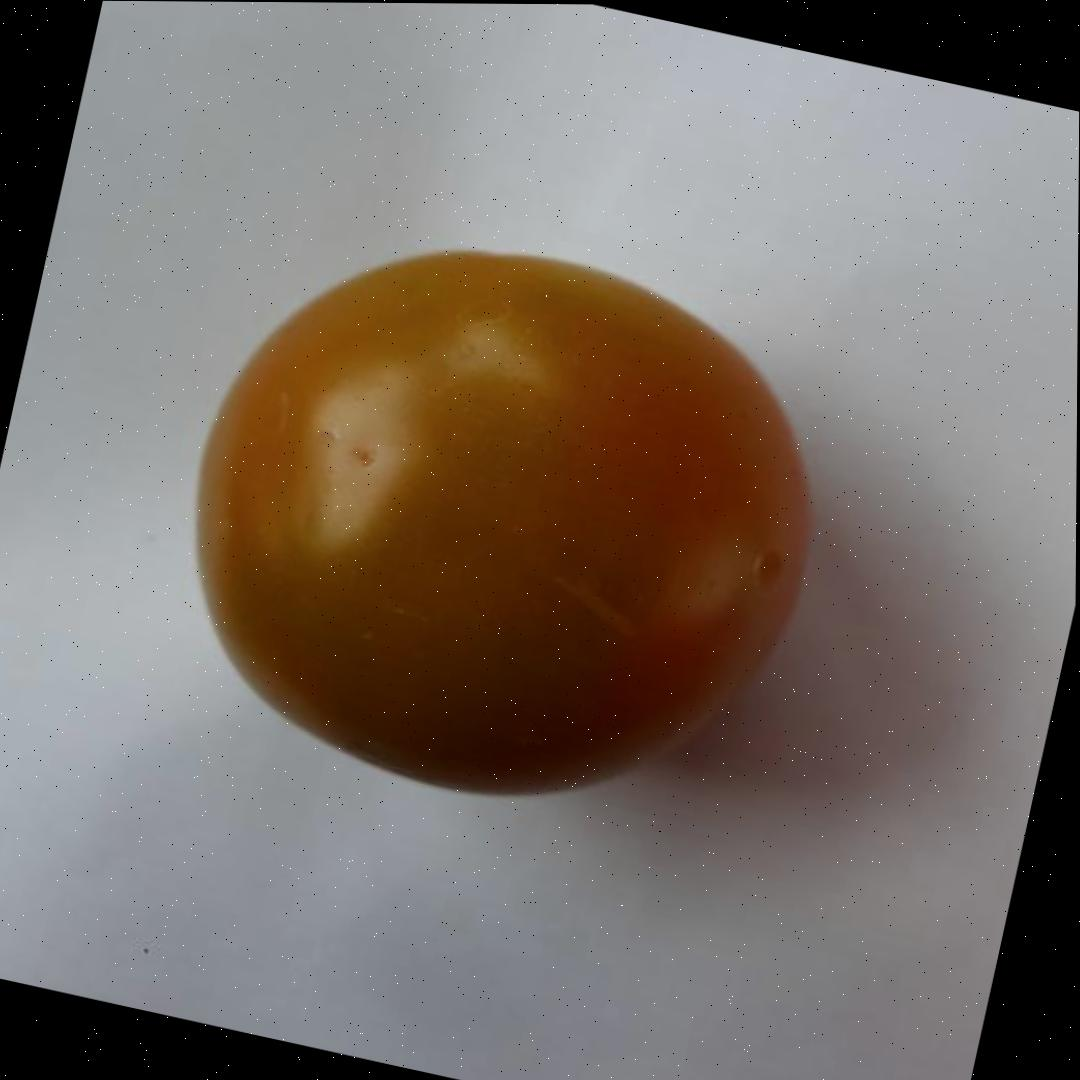setengah_matang: (138, 188, 870, 862)
